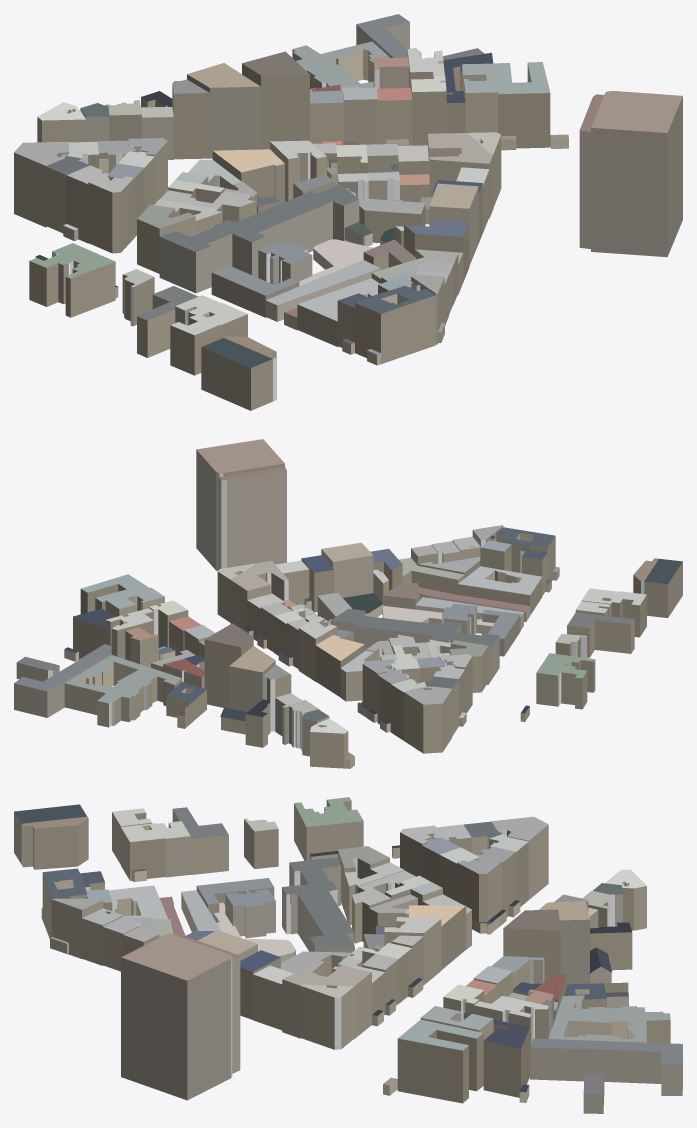
The picture shows the model from 3 angles, top to bottom: view 1: azimuth 30°, elevation 25°; view 2: azimuth 150°, elevation 25°; view 3: azimuth 270°, elevation 25°; orthographic projection. The views are drawn at different scales.
Visible parts, largest first — view 1: tuile; view 2: tuile; view 3: tuile.
Boxes of the visible parts, x1=… form: tuile: x1=14, y1=14, x2=682, y2=410; tuile: x1=14, y1=439, x2=682, y2=768; tuile: x1=14, y1=797, x2=682, y2=1113.
Bounding box in the file's own units: 274 × 59.96 × 284.
